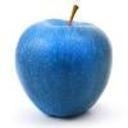apple: (15, 15, 113, 118)
